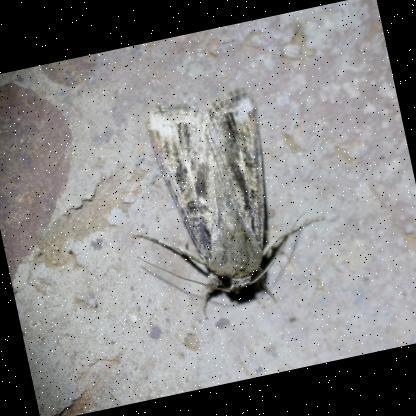Fall Armyworm Moth: (103, 73, 341, 331)
